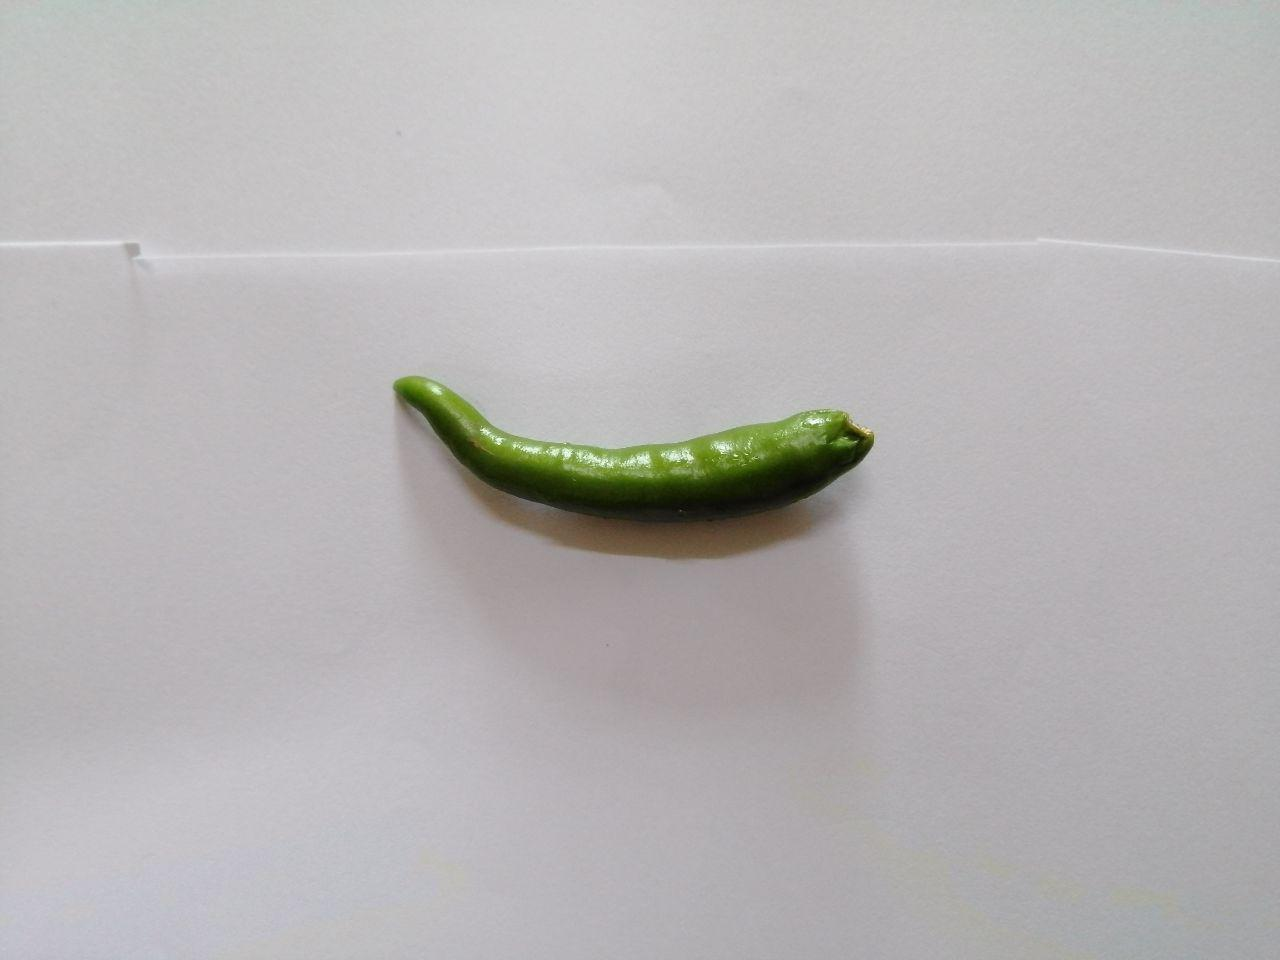lada hijau: (372, 349, 894, 562)
